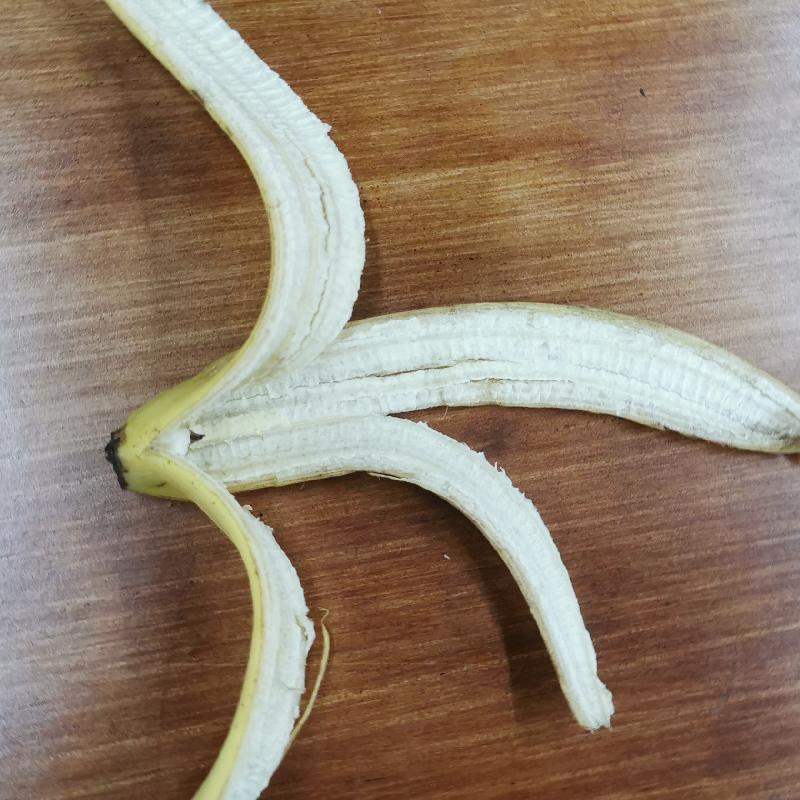bananas: (63, 6, 800, 799)
